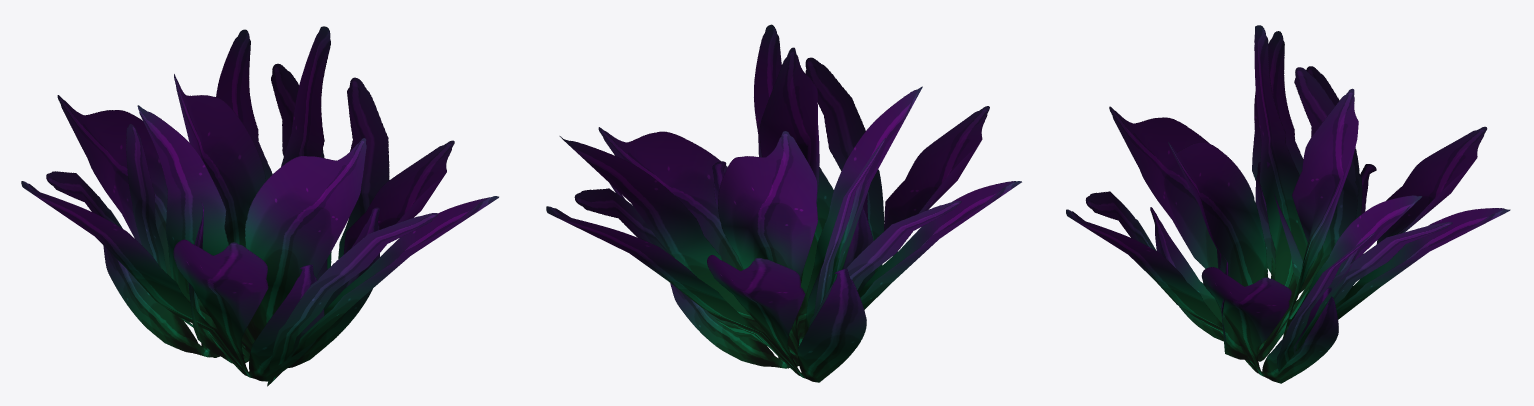
File: StrangeFoliage(2SideLeafs).fbx
3 renders of one model, left to right at view 1: azimuth 30°, elevation 25°; view 2: azimuth 150°, elevation 25°; view 3: azimuth 270°, elevation 25°, orthographic. The views are drawn at different scales.
Visible parts, largest first — view 1: StrangerLeave01(2SideLeave); view 2: StrangerLeave01(2SideLeave); view 3: StrangerLeave01(2SideLeave).
Part boxes in pixels (x1,y1,x2,y2): StrangerLeave01(2SideLeave): (21, 26, 498, 386); StrangerLeave01(2SideLeave): (546, 24, 1021, 382); StrangerLeave01(2SideLeave): (1066, 25, 1510, 383).
Size of the model in its own units: 102 by 69.47 by 95.23.
